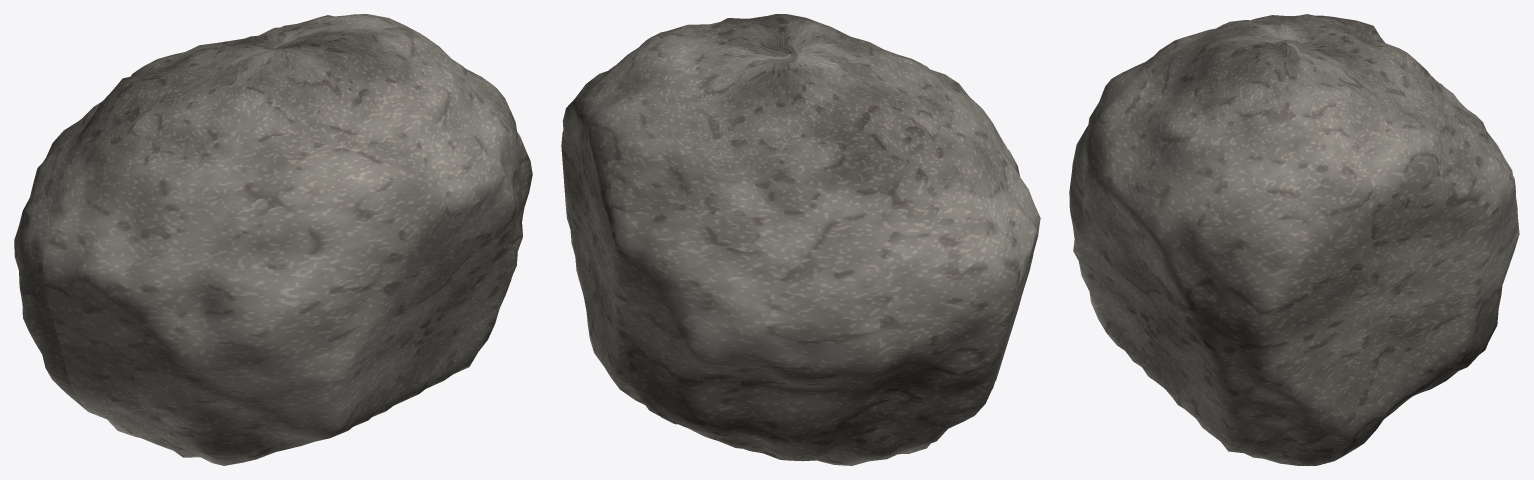
Rendered from PZ_R04_Granite_Rock_Granite.glb.
The picture shows the model from 3 angles, left to right: view 1: azimuth 30°, elevation 25°; view 2: azimuth 150°, elevation 25°; view 3: azimuth 270°, elevation 25°; orthographic projection.
Parts seen in each view (by area): view 1: RENDER_R04_Granite_Rock_Granite; view 2: RENDER_R04_Granite_Rock_Granite; view 3: RENDER_R04_Granite_Rock_Granite.
Part boxes in pixels (box(x1,y1,x2,y2)): RENDER_R04_Granite_Rock_Granite: box(14, 14, 532, 465); RENDER_R04_Granite_Rock_Granite: box(561, 14, 1040, 465); RENDER_R04_Granite_Rock_Granite: box(1069, 14, 1519, 465).
Size of the model in its own units: 1.1 by 0.81 by 0.91.
1 material, 1 textured.
